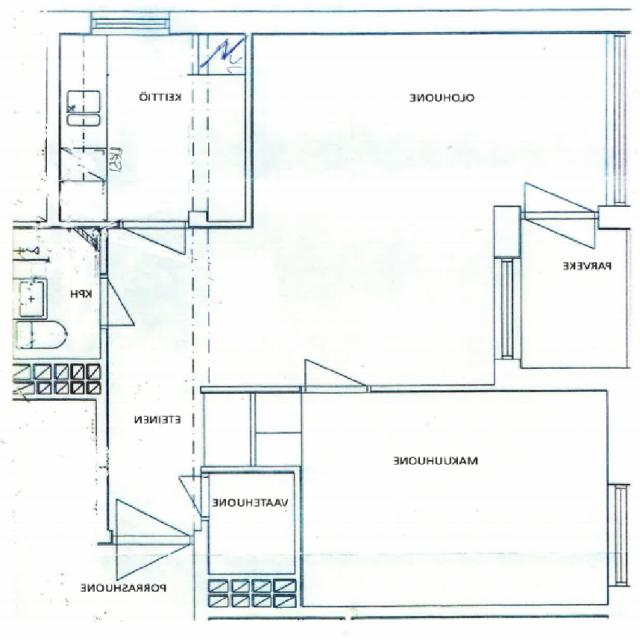door: (118, 530, 192, 608), (118, 467, 192, 544), (526, 151, 595, 219), (526, 212, 595, 280), (125, 221, 187, 282), (306, 331, 368, 391), (102, 278, 164, 325), (155, 476, 211, 517)
